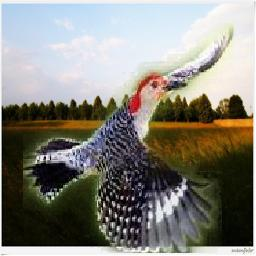Woodpecker: (24, 23, 235, 253)
